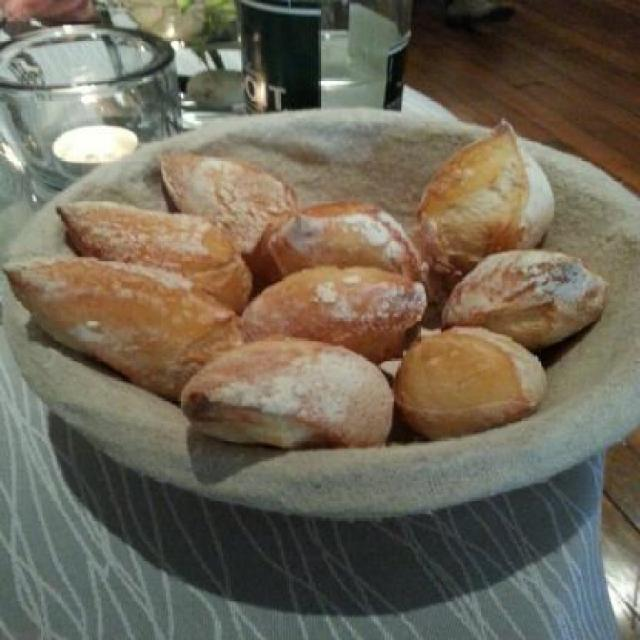Bread: (0, 114, 600, 443), (412, 116, 560, 298)
